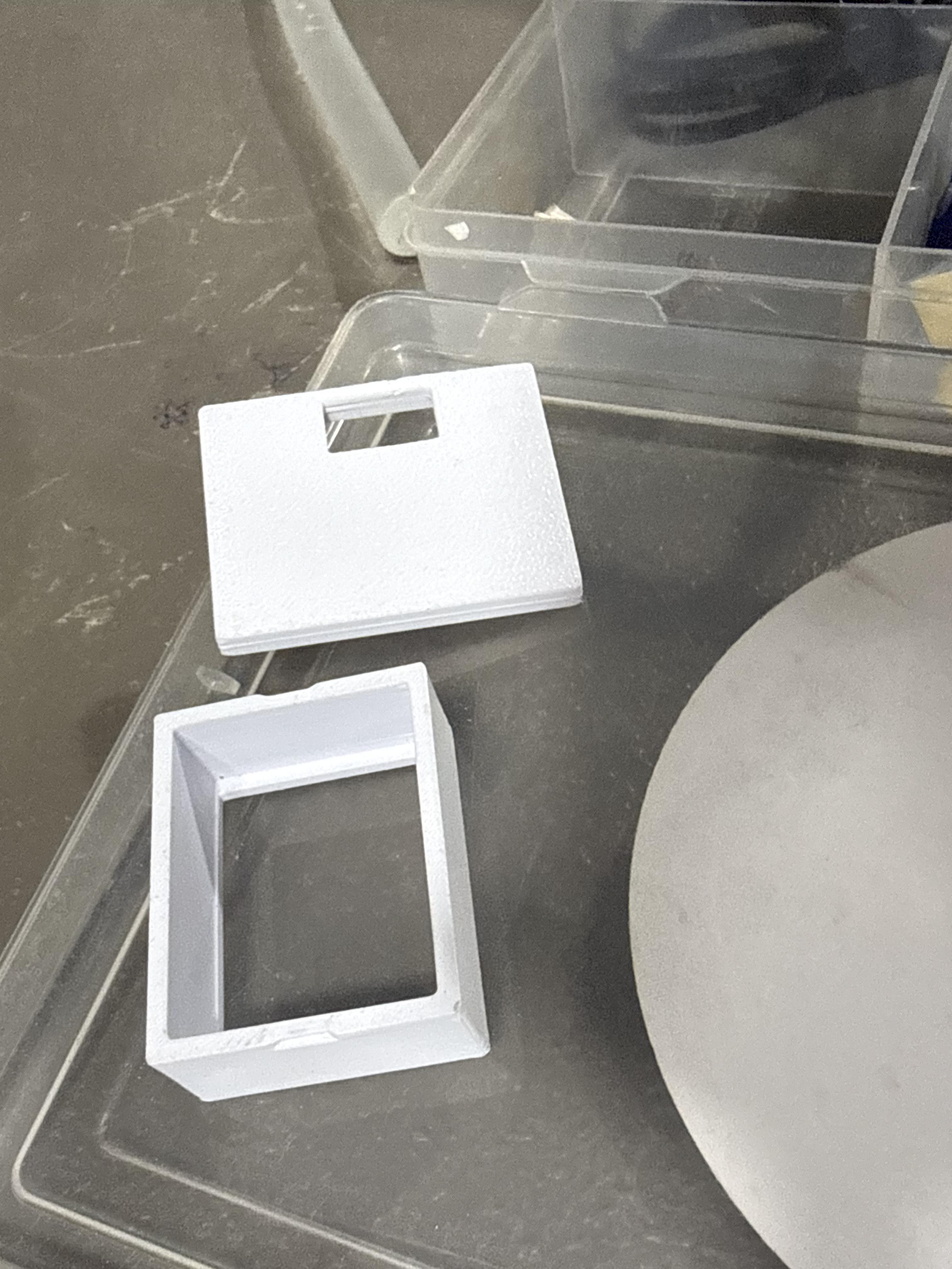enclosure: (143, 661, 491, 1103), (198, 362, 585, 657)
